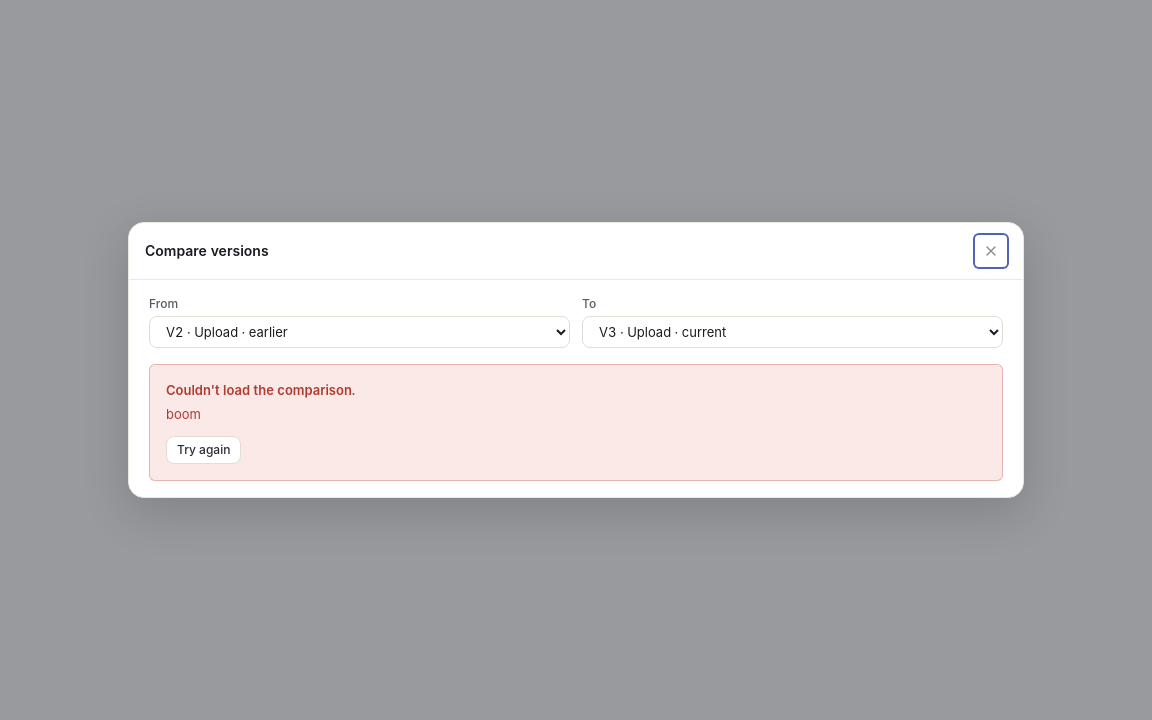
Test: comparing two versions › shows why it failed and lets the person try again
Expected: the message "Couldn't load the comparison. boom Try again" is shown, [149,364,1003,481]
Click the button "Try again". click: (204, 450)
box: [166,436,241,464]
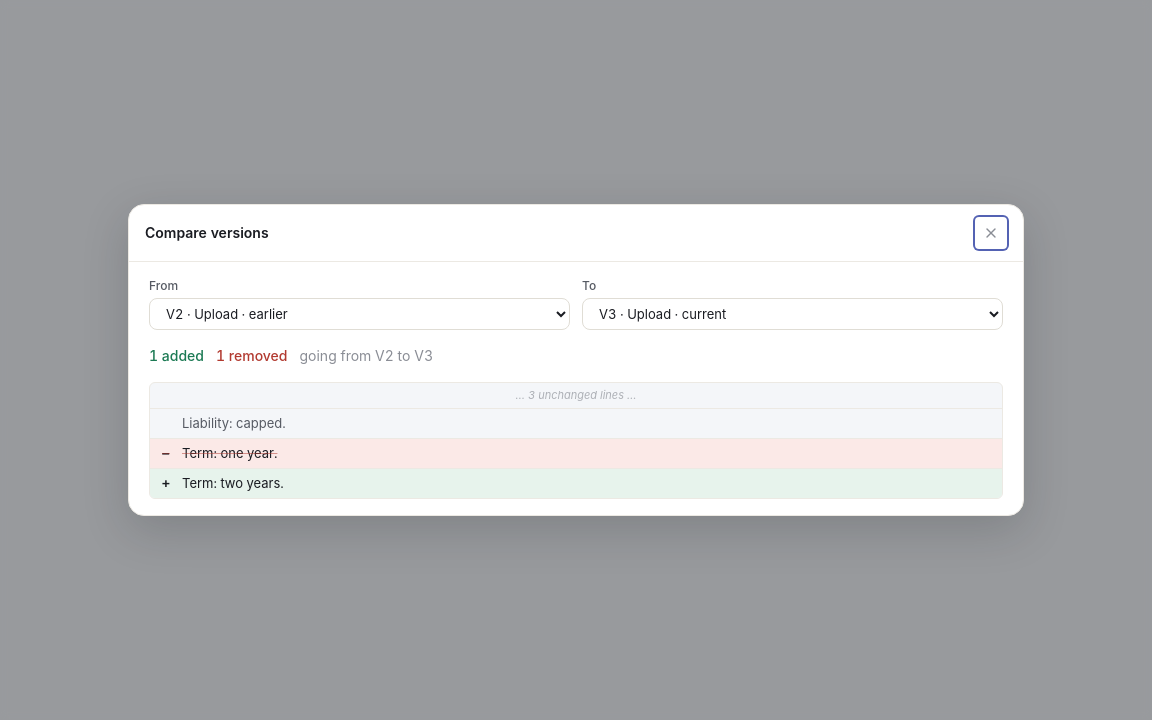
Expected: the text "Term: two years." is shown, [182,473,284,494]
